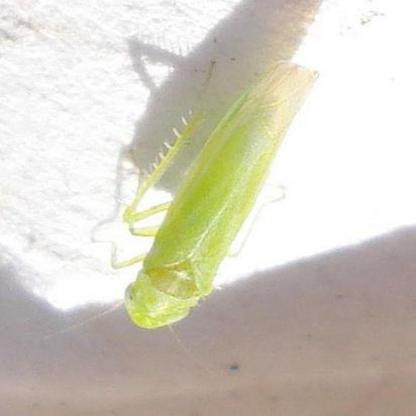green-leafhopper: (127, 61, 308, 332)
